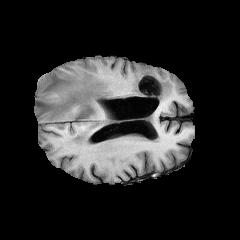glioma: (36, 70, 172, 145)
